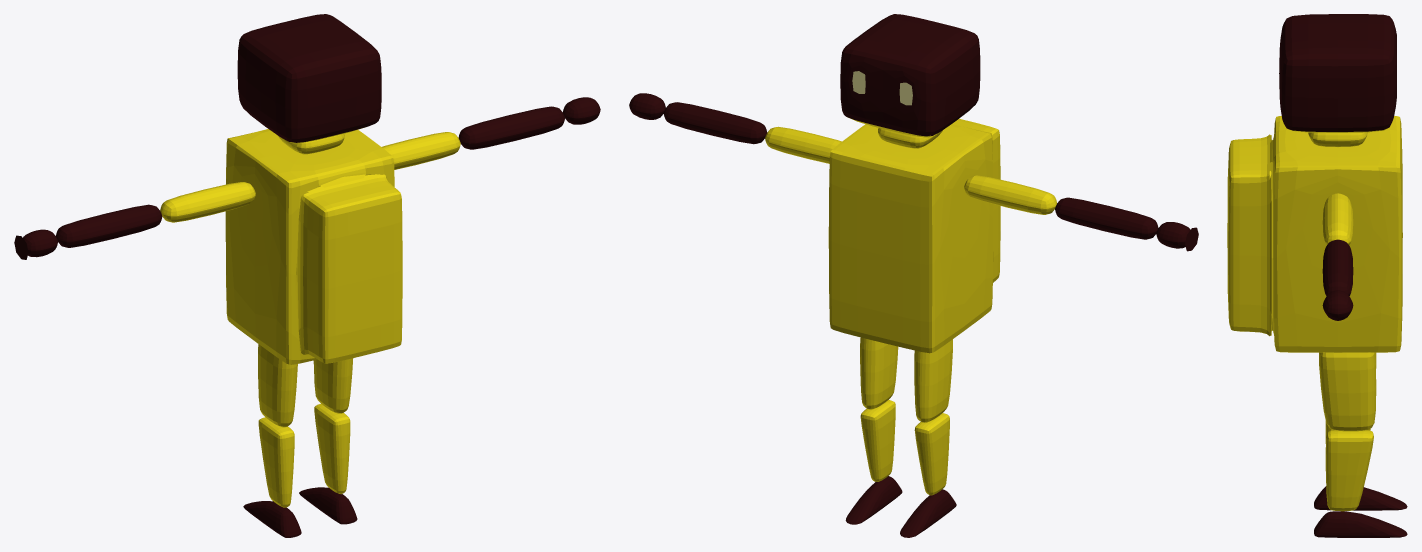
The model's file is PlayerModel.fbx.
3 views of the same model, side by side, from view 1: azimuth 30°, elevation 25°; view 2: azimuth 150°, elevation 25°; view 3: azimuth 270°, elevation 25° (orthographic). The views are drawn at different scales.
Visible parts, largest first — view 1: Cube.009, Cube.011, Cube.004, Cube.007, Cube.013, Cube.014, Cube.015, Cube.006, Cube.005, Cube.012, Cube.016, Cube.017 (+3 smaller); view 2: Cube.009, Cube.011, Cube.013, Cube.007, Cube.004, Cube.012, Cube.006, Cube.015, Cube.014, Cube.005, Cube.016, Cube.017 (+3 smaller); view 3: Cube.009, Cube.011, Cube.012, Cube.014, Cube.016, Cube.004, Cube.005, Cube.017, Cube.010, Cube.003.
Boxes of the visible parts, x1,y1,x2,y2 form: Cube.009: [225, 129, 402, 364]; Cube.011: [237, 14, 381, 143]; Cube.004: [458, 106, 564, 149]; Cube.007: [56, 204, 162, 247]; Cube.013: [258, 344, 297, 427]; Cube.014: [314, 404, 350, 494]; Cube.015: [258, 417, 294, 507]; Cube.006: [160, 182, 255, 222]; Cube.005: [382, 132, 460, 169]; Cube.012: [313, 358, 353, 413]; Cube.016: [299, 487, 357, 524]; Cube.017: [243, 501, 301, 537]; Cube.009: [828, 118, 1000, 353]; Cube.011: [840, 14, 980, 137]; Cube.013: [914, 339, 952, 422]; Cube.007: [1055, 197, 1158, 239]; Cube.004: [663, 102, 766, 144]; Cube.012: [860, 337, 898, 409]; Cube.006: [964, 175, 1056, 214]; Cube.015: [914, 413, 949, 495]; Cube.014: [860, 400, 895, 481]; Cube.005: [765, 126, 841, 163]; Cube.016: [845, 476, 902, 524]; Cube.017: [900, 489, 956, 537]; Cube.009: [1227, 116, 1402, 352]; Cube.011: [1279, 14, 1396, 132]; Cube.012: [1319, 352, 1376, 431]; Cube.014: [1325, 430, 1373, 511]; Cube.016: [1314, 511, 1407, 537]; Cube.004: [1322, 239, 1353, 295]; Cube.005: [1322, 193, 1353, 245]; Cube.017: [1314, 486, 1407, 510]; Cube.010: [1308, 132, 1367, 146]; Cube.003: [1322, 290, 1353, 320].
Size of the model in its own units: 375 by 302 by 100.
1 material, 1 textured.
